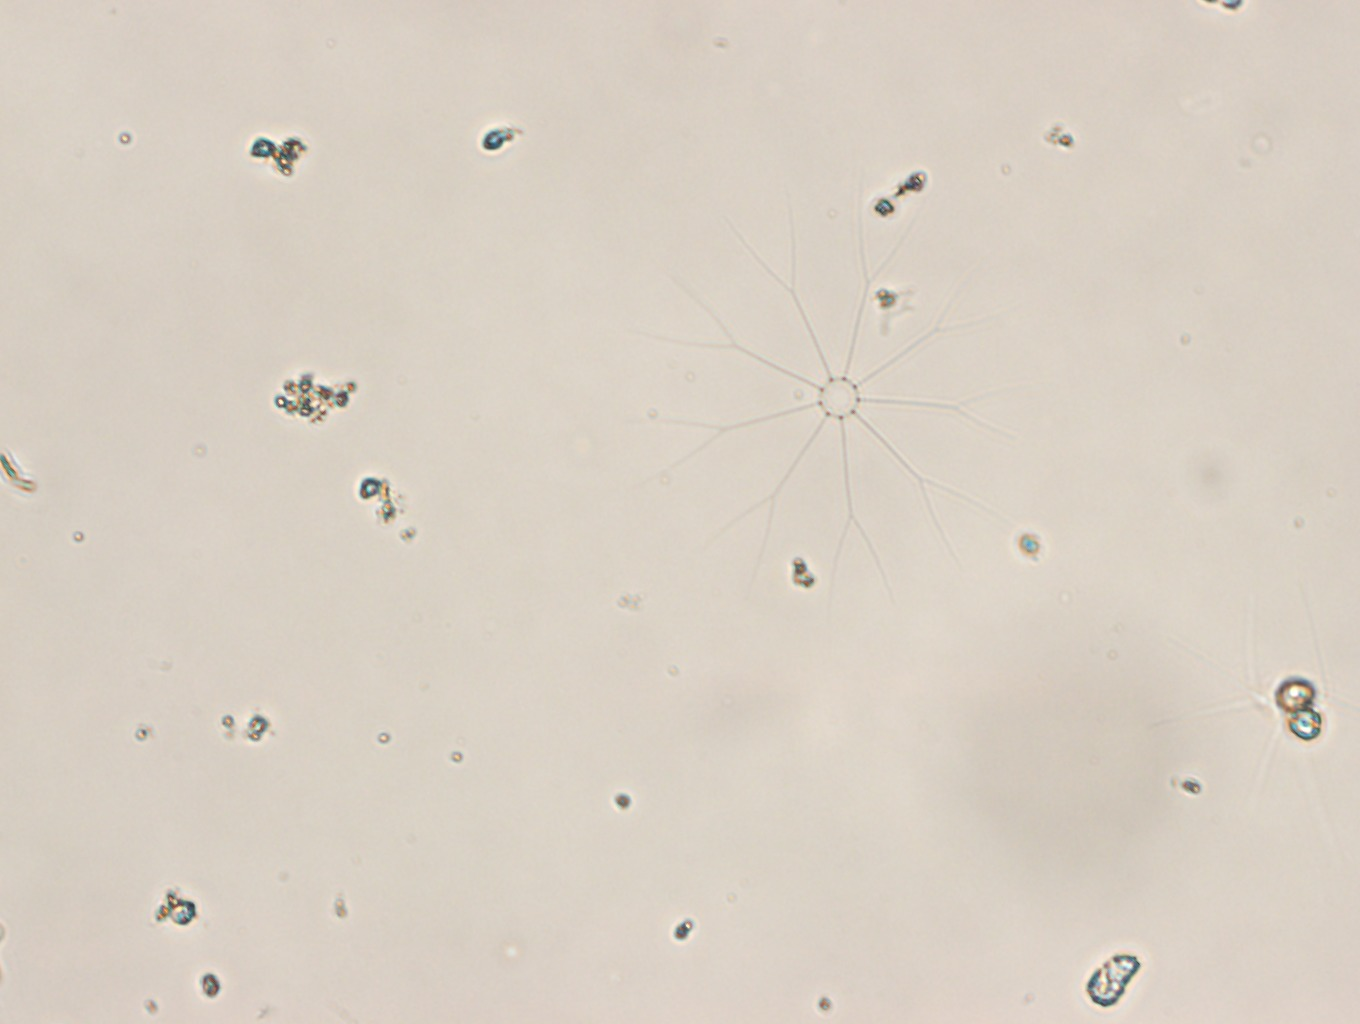bacteriastrum: (640, 174, 1031, 603)
